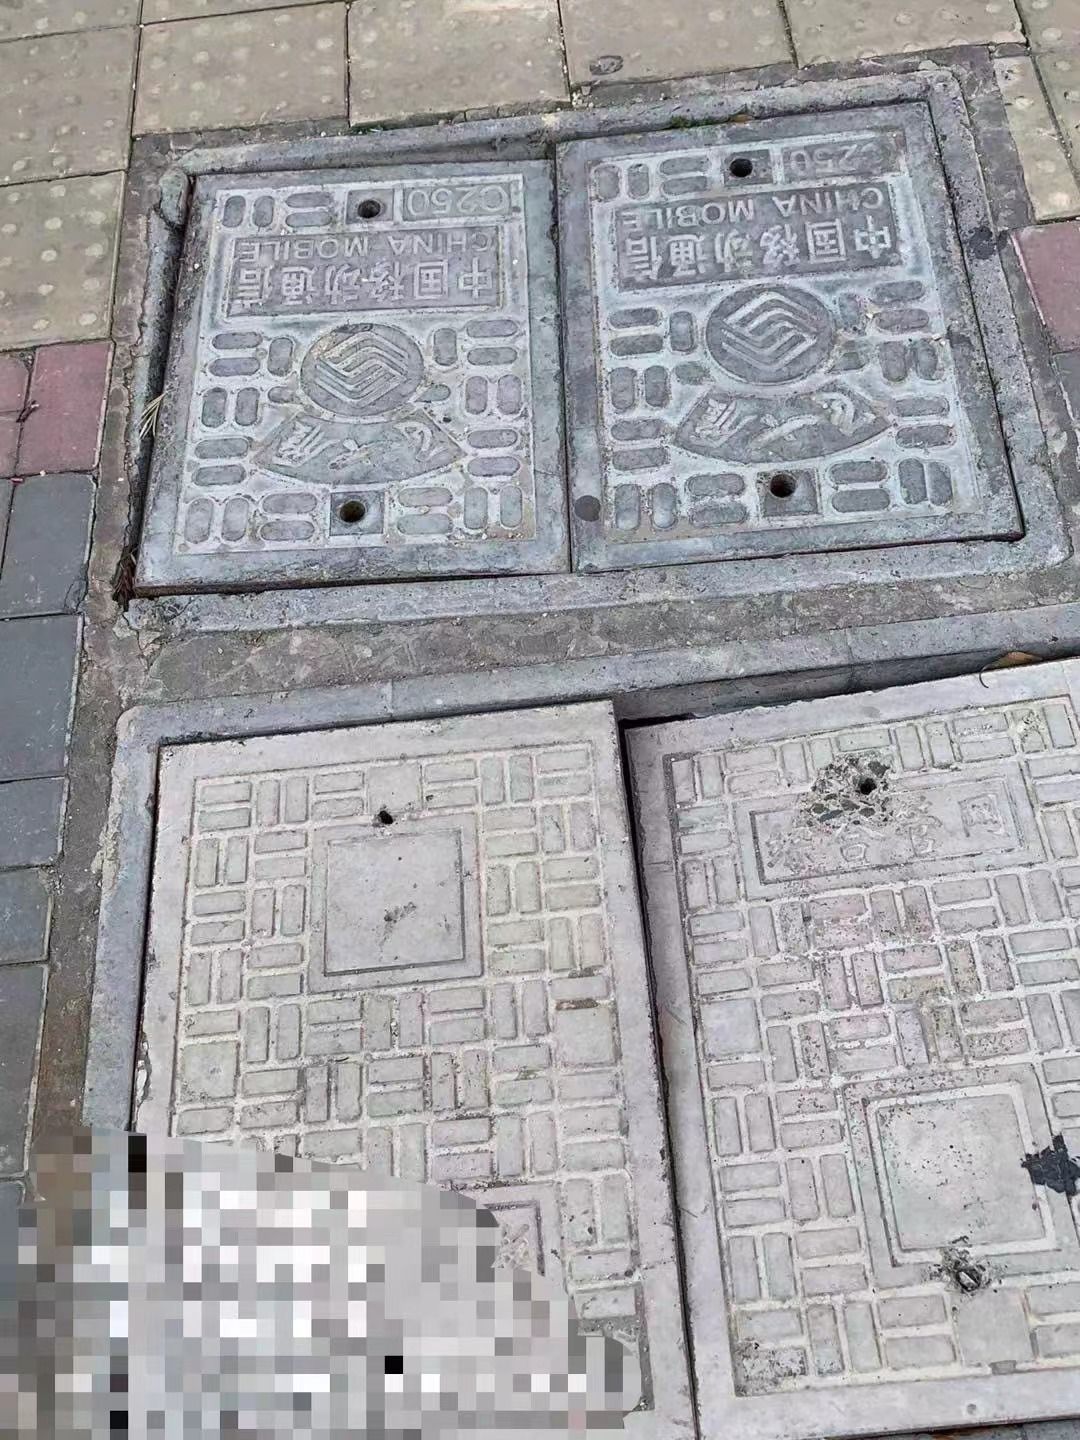well: (58, 641, 1080, 1433), (104, 60, 1068, 615), (605, 634, 1075, 1422)
